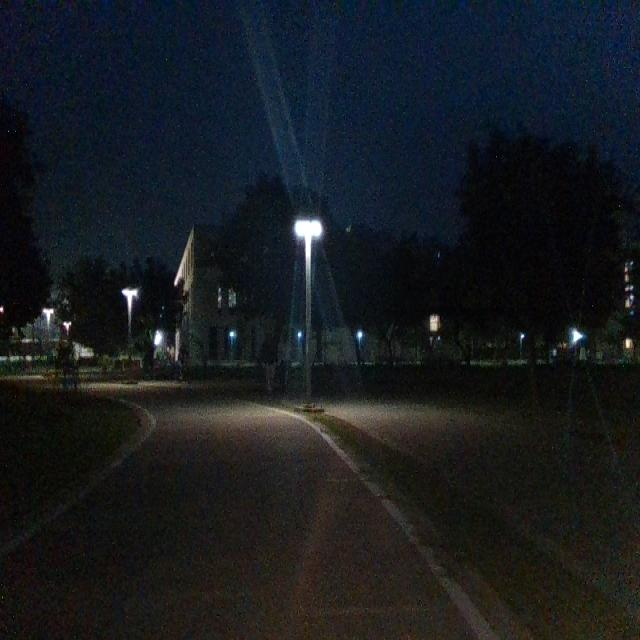lane: (0, 397, 481, 640)
